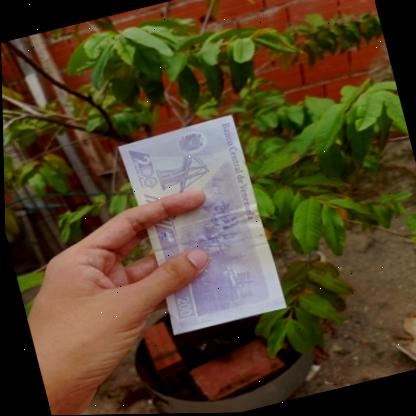vef_back: (114, 113, 287, 339)
